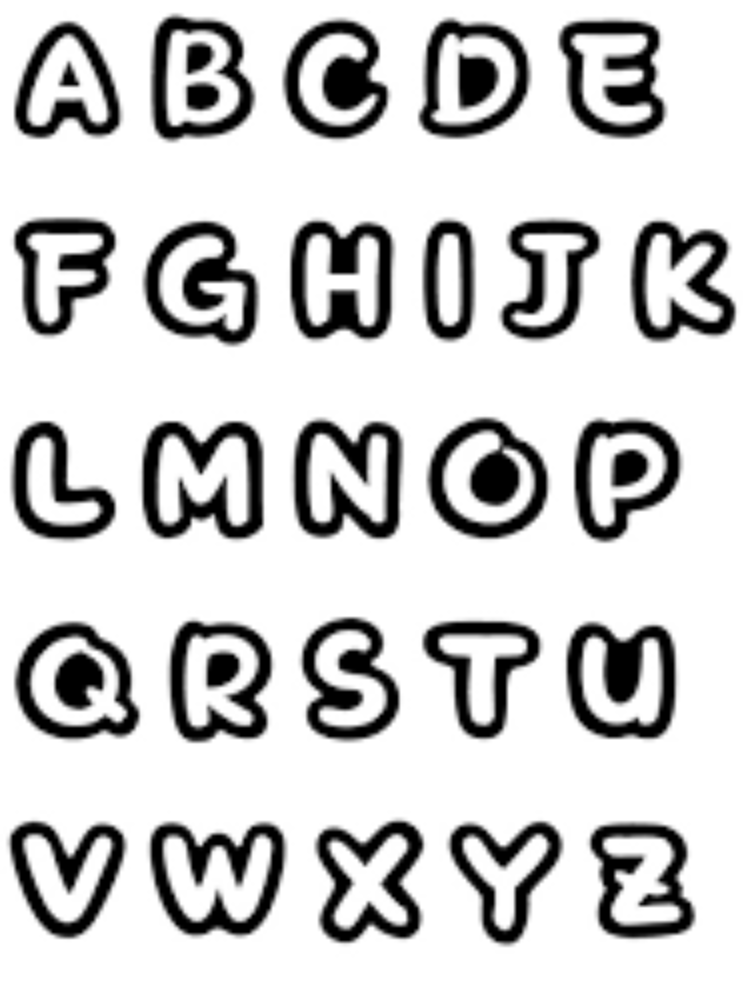A.: (14, 19, 133, 148)
B: (142, 16, 261, 140)
C: (276, 22, 391, 139)
D: (414, 12, 536, 143)
E: (556, 9, 674, 142)
F: (13, 206, 123, 339)
G: (139, 213, 262, 349)
H: (289, 209, 402, 342)
I: (411, 219, 484, 340)
J: (496, 212, 603, 346)
K: (627, 213, 744, 345)
L: (3, 416, 120, 545)
M: (136, 414, 270, 549)
N: (290, 414, 409, 550)
O: (424, 413, 556, 542)
P: (559, 413, 680, 544)
Q: (8, 618, 153, 739)
R: (159, 616, 281, 748)
S: (295, 612, 410, 751)
T: (415, 607, 545, 740)
U: (556, 616, 693, 749)
V: (16, 813, 130, 948)
W: (147, 813, 293, 941)
X: (311, 808, 431, 941)
Y: (440, 811, 575, 947)
Z: (585, 816, 713, 941)
